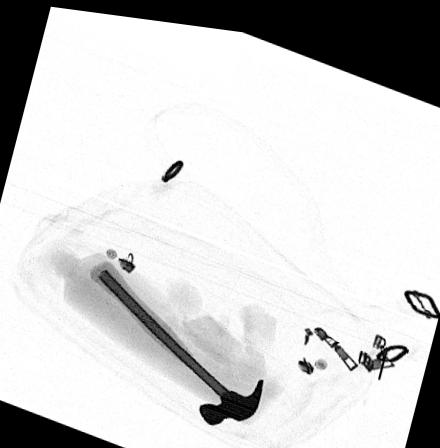Hammer: (89, 256, 264, 419)
